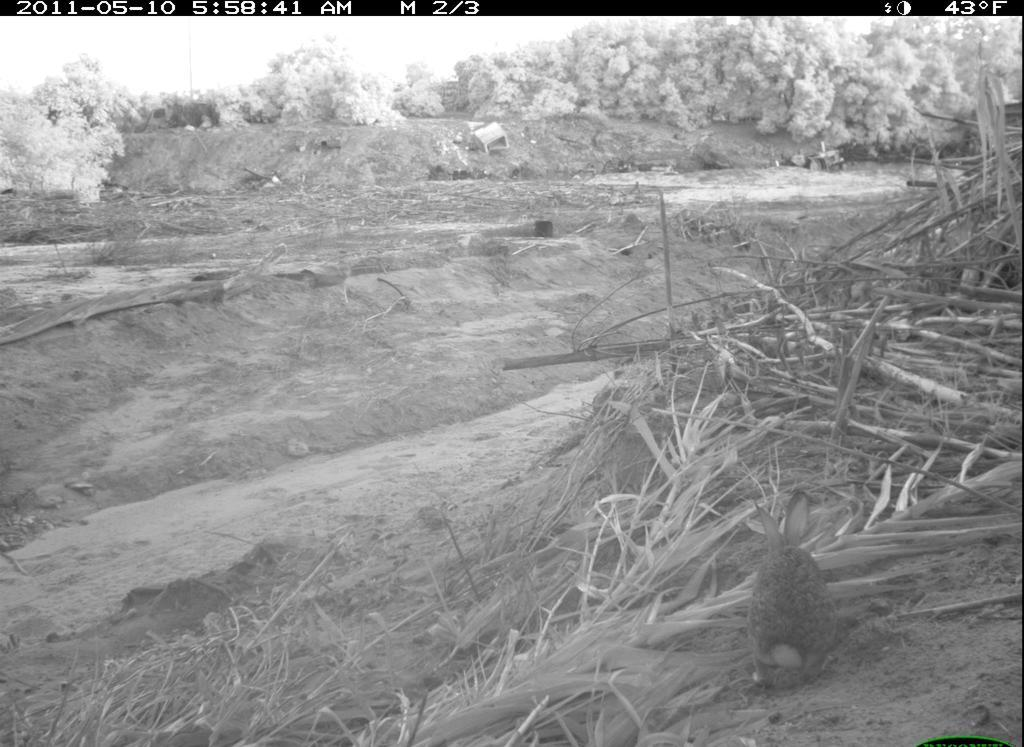rabbit: (716, 474, 850, 719)
